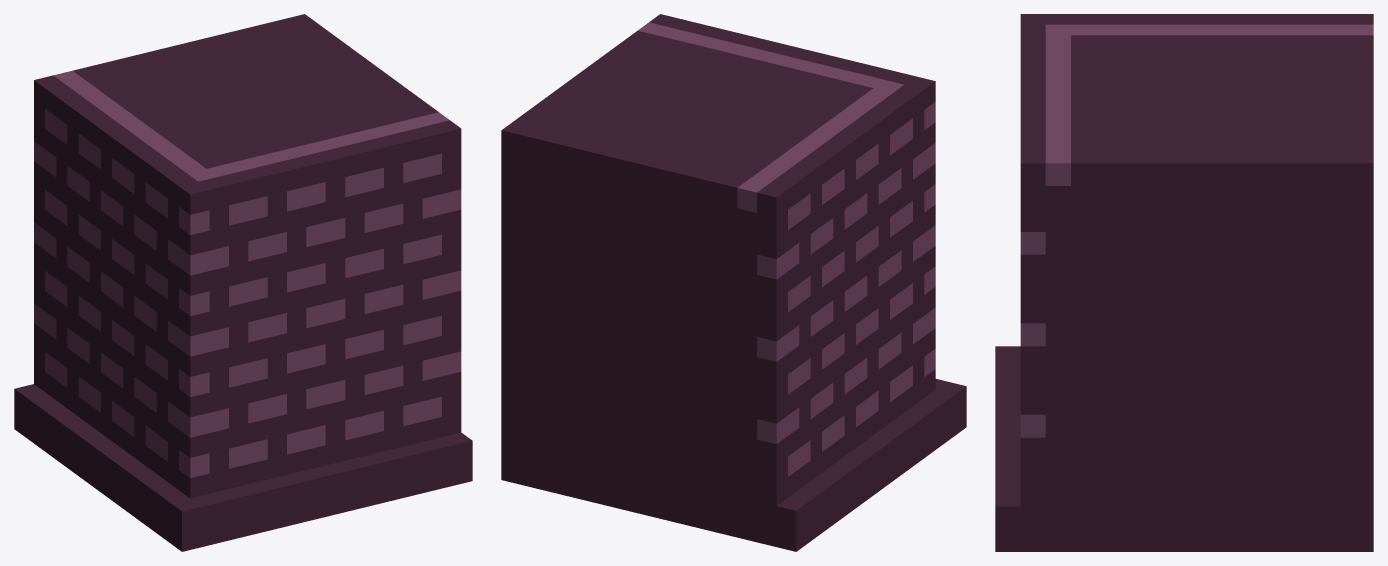
The model's file is dungeon_c_a_outer_wall_corner_a.obj.
3 views of the same model, side by side, from view 1: azimuth 30°, elevation 25°; view 2: azimuth 150°, elevation 25°; view 3: azimuth 270°, elevation 25° (orthographic). The views are drawn at different scales.
Bounding box in the file's own units: 1.5 × 1.7 × 1.5.
1 material, 1 textured.
